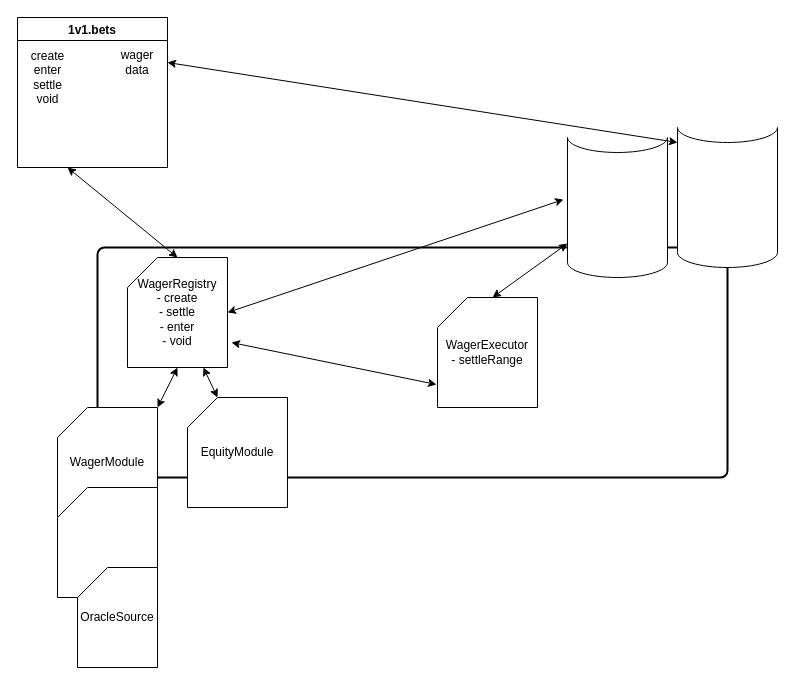
This 795x685 diagram has some shape labels left out. Here are the shapes that lost their labels. From the top down, the centre of each, then its label:
At [617,207]: "ChainLink".
At [727,197]: "The Graph".
At [107,542]: "OracleModule".
